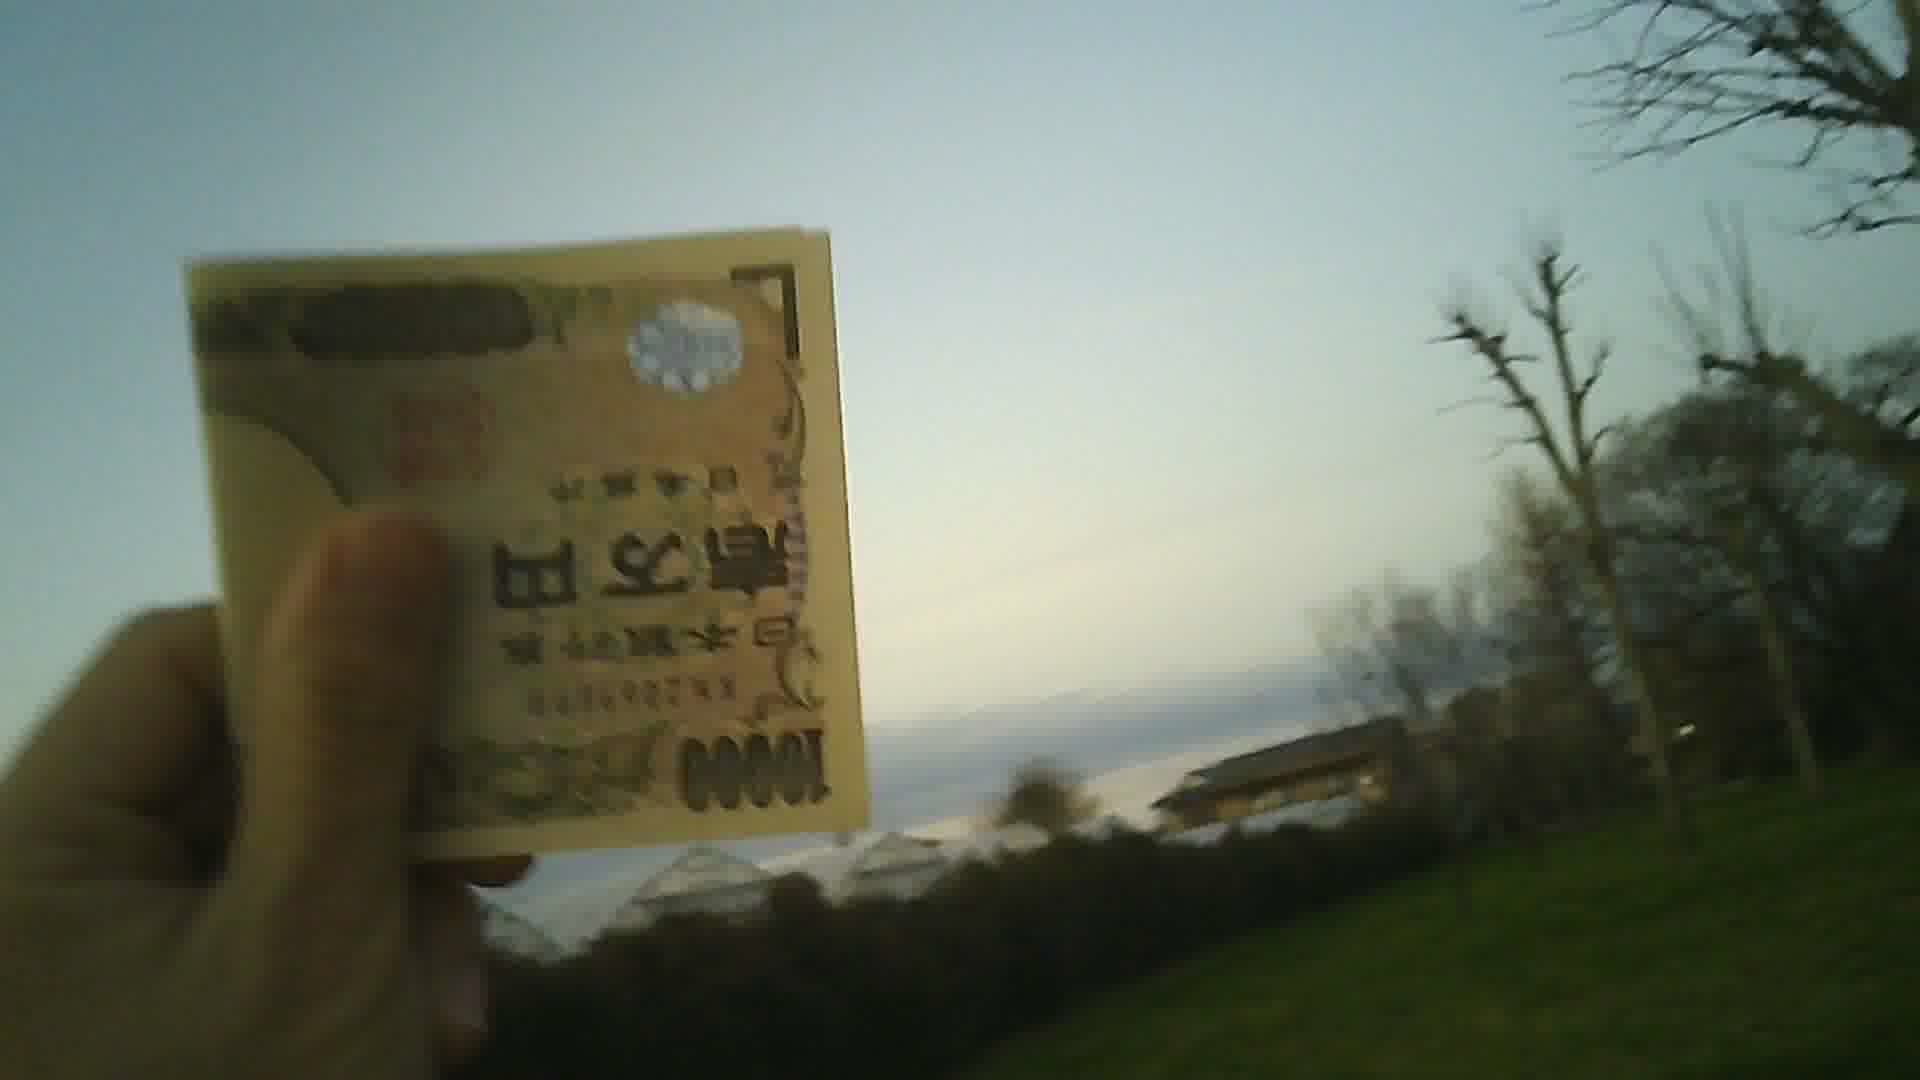10,000 Yen: (136, 193, 884, 855)
